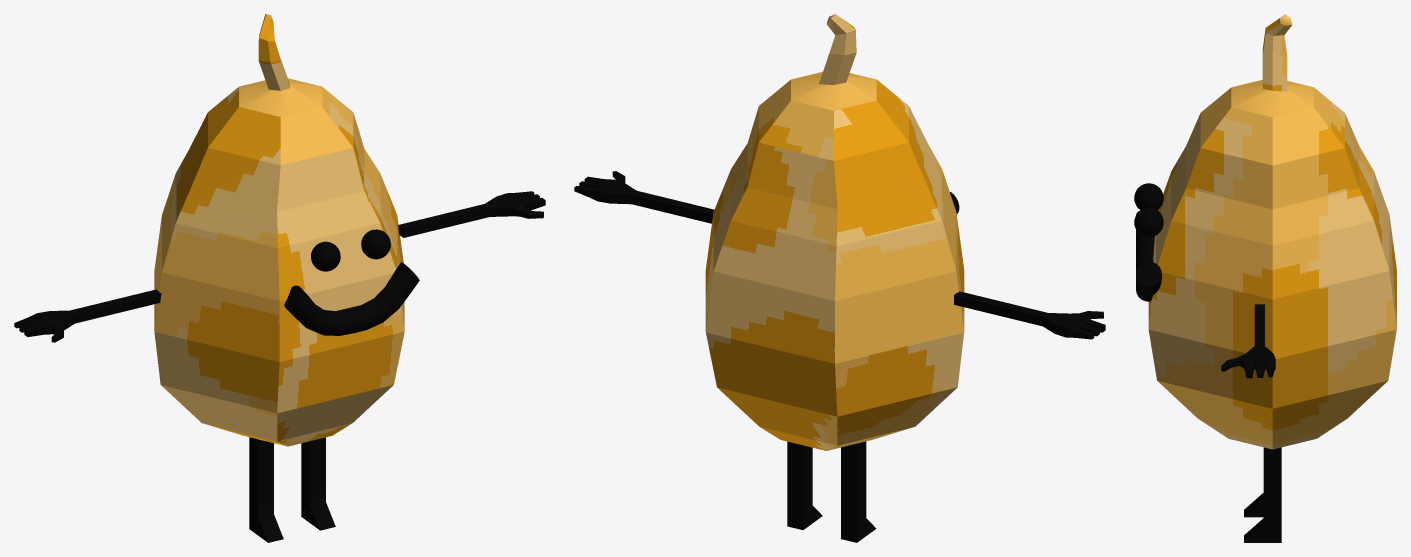
File: PotatoSan.glb
The picture shows the model from 3 angles, left to right: view 1: azimuth 30°, elevation 25°; view 2: azimuth 150°, elevation 25°; view 3: azimuth 270°, elevation 25°; orthographic projection. The views are drawn at different scales.
Parts seen in each view (by area): view 1: Mesh_4, Mesh_7, Mesh_0, Mesh_3, Mesh_1, Mesh_2, Mesh_5, Mesh_6; view 2: Mesh_4, Mesh_1, Mesh_3, Mesh_0, Mesh_2; view 3: Mesh_4, Mesh_2, Mesh_0, Mesh_7, Mesh_6, Mesh_5, Mesh_3.
Part boxes in pixels (<box>): Mesh_4: <box>154,14,404,446</box>; Mesh_7: <box>284,262,419,335</box>; Mesh_0: <box>398,191,545,237</box>; Mesh_3: <box>249,437,283,542</box>; Mesh_1: <box>14,289,161,342</box>; Mesh_2: <box>301,437,335,530</box>; Mesh_5: <box>311,241,340,271</box>; Mesh_6: <box>361,229,390,259</box>; Mesh_4: <box>705,14,964,450</box>; Mesh_1: <box>954,291,1105,339</box>; Mesh_3: <box>841,441,876,542</box>; Mesh_0: <box>574,171,714,223</box>; Mesh_2: <box>787,441,822,529</box>; Mesh_4: <box>1148,14,1396,449</box>; Mesh_2: <box>1244,447,1281,542</box>; Mesh_0: <box>1221,304,1275,378</box>; Mesh_7: <box>1136,211,1161,301</box>; Mesh_6: <box>1134,207,1163,237</box>; Mesh_5: <box>1134,183,1163,210</box>; Mesh_3: <box>1244,493,1263,517</box>.
Size of the model in its own units: 229 by 218 by 103.
Materials: 2 (1 with a texture image).
